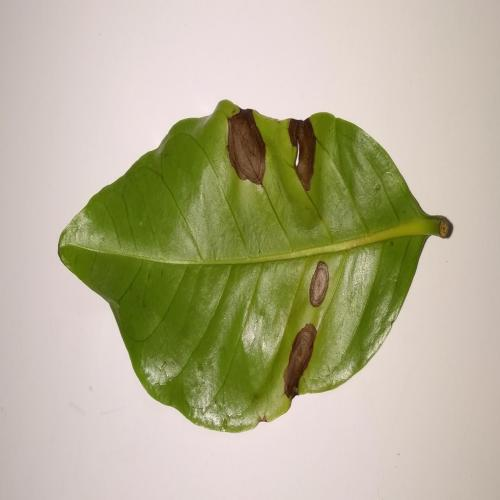miner: (227, 105, 265, 185)
